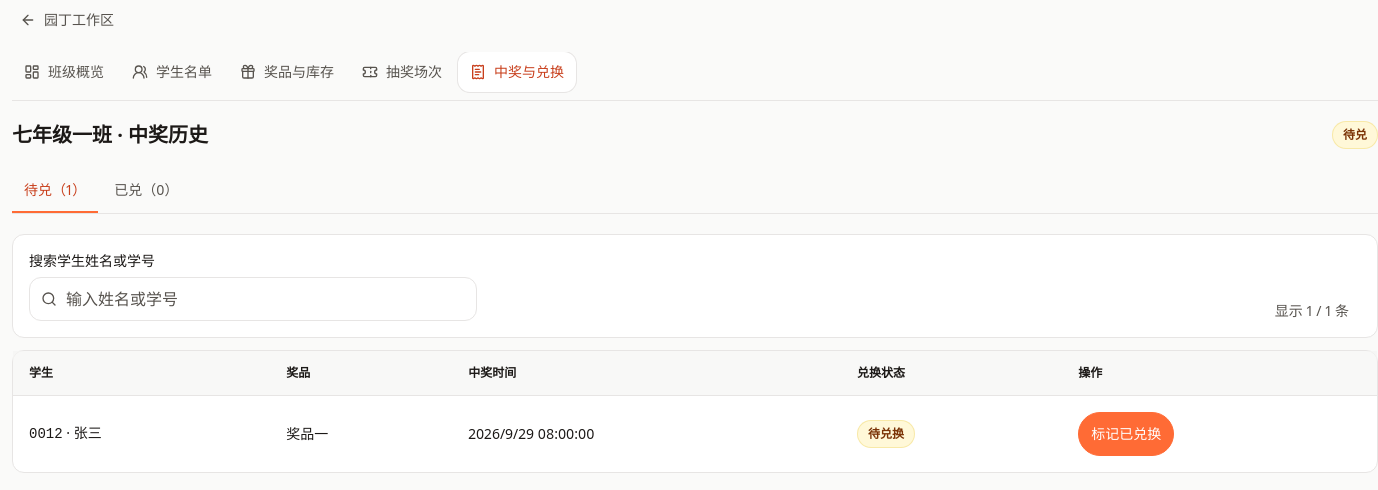
Test: pending winnings search shows a clear empty state when nothing matches
Type "不存在" into the search field named "搜索学生姓名或学号" at x=253, y=299, box x1=29 y1=277 x2=477 y2=321
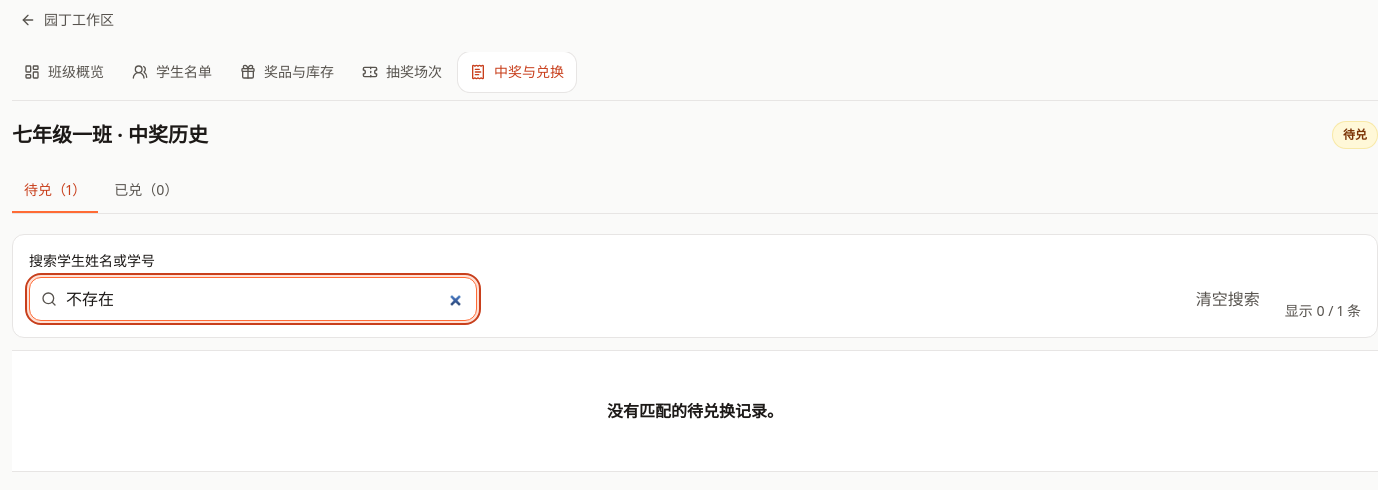
Check: the text "没有匹配的待兑换记录。" is shown, box x1=607 y1=400 x2=783 y2=422
